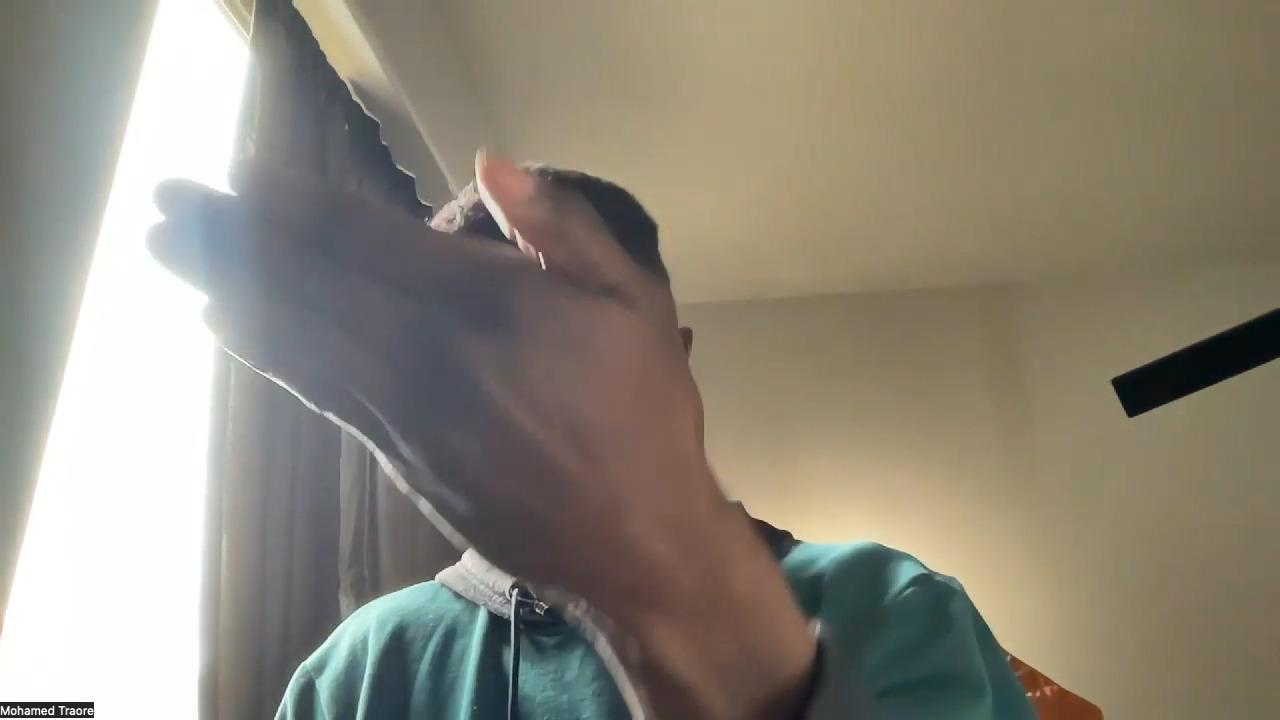Paper: (147, 148, 716, 598)
